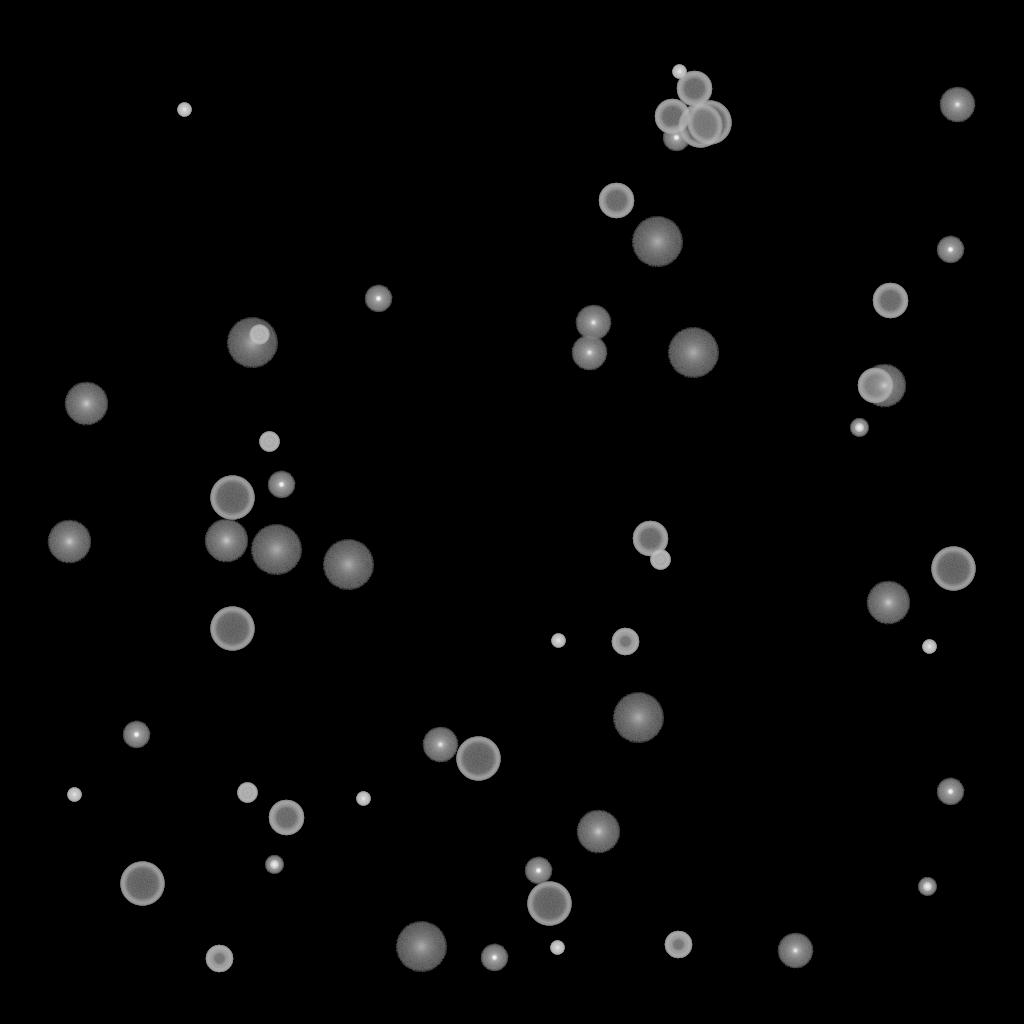depth:-10: (936, 778, 964, 806), (364, 285, 392, 313), (524, 857, 552, 885), (662, 124, 690, 152), (480, 944, 508, 972), (936, 236, 964, 264), (122, 721, 150, 749), (267, 471, 295, 499)
depth:-20: (265, 856, 283, 874), (918, 878, 936, 896), (850, 419, 868, 437)
depth:-30: (67, 788, 81, 802), (356, 792, 370, 806), (922, 640, 936, 654), (551, 634, 565, 648), (550, 941, 564, 955), (672, 65, 686, 79), (177, 103, 191, 117)
depth:-40: (650, 550, 670, 570), (237, 783, 257, 803), (249, 325, 269, 345), (259, 432, 279, 452)
depth:-50: (611, 628, 639, 656), (205, 945, 233, 973), (664, 931, 692, 959)
depth:-60: (857, 368, 893, 404), (872, 283, 908, 319), (632, 521, 668, 557), (268, 800, 304, 836), (598, 183, 634, 219), (654, 99, 690, 135), (676, 71, 712, 107)
depth:-70: (678, 104, 722, 148), (456, 737, 500, 781), (210, 607, 254, 651), (527, 882, 571, 926), (931, 547, 975, 591), (687, 101, 731, 145), (120, 862, 164, 906), (210, 476, 254, 520)
depth:0: (422, 727, 458, 763), (571, 335, 607, 371), (777, 933, 813, 969), (575, 305, 611, 341), (939, 87, 975, 123)
depth:10: (862, 364, 906, 408), (64, 382, 108, 426), (204, 519, 248, 563), (47, 520, 91, 564), (576, 810, 620, 854), (866, 581, 910, 625)
depth:20: (631, 217, 683, 267), (250, 525, 302, 575), (612, 693, 664, 743), (667, 328, 719, 378), (226, 318, 278, 368), (322, 540, 374, 590), (395, 922, 447, 972)
